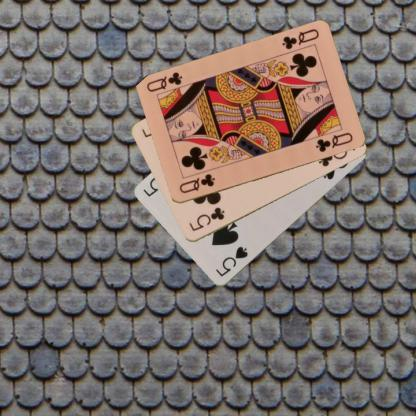5c: (186, 204, 226, 233)
5s: (212, 244, 250, 278)
Qc: (279, 26, 320, 51), (176, 171, 216, 195)
